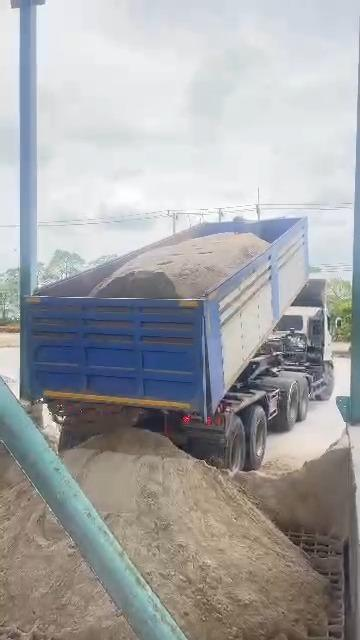sand: (65, 429, 324, 639), (0, 470, 134, 639), (233, 436, 353, 537), (91, 233, 268, 297), (49, 400, 141, 452)
